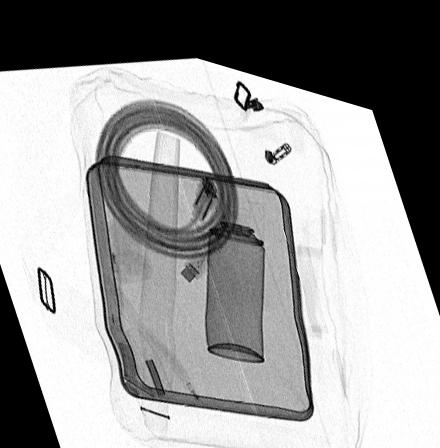Sprayer: (204, 178, 264, 347)
